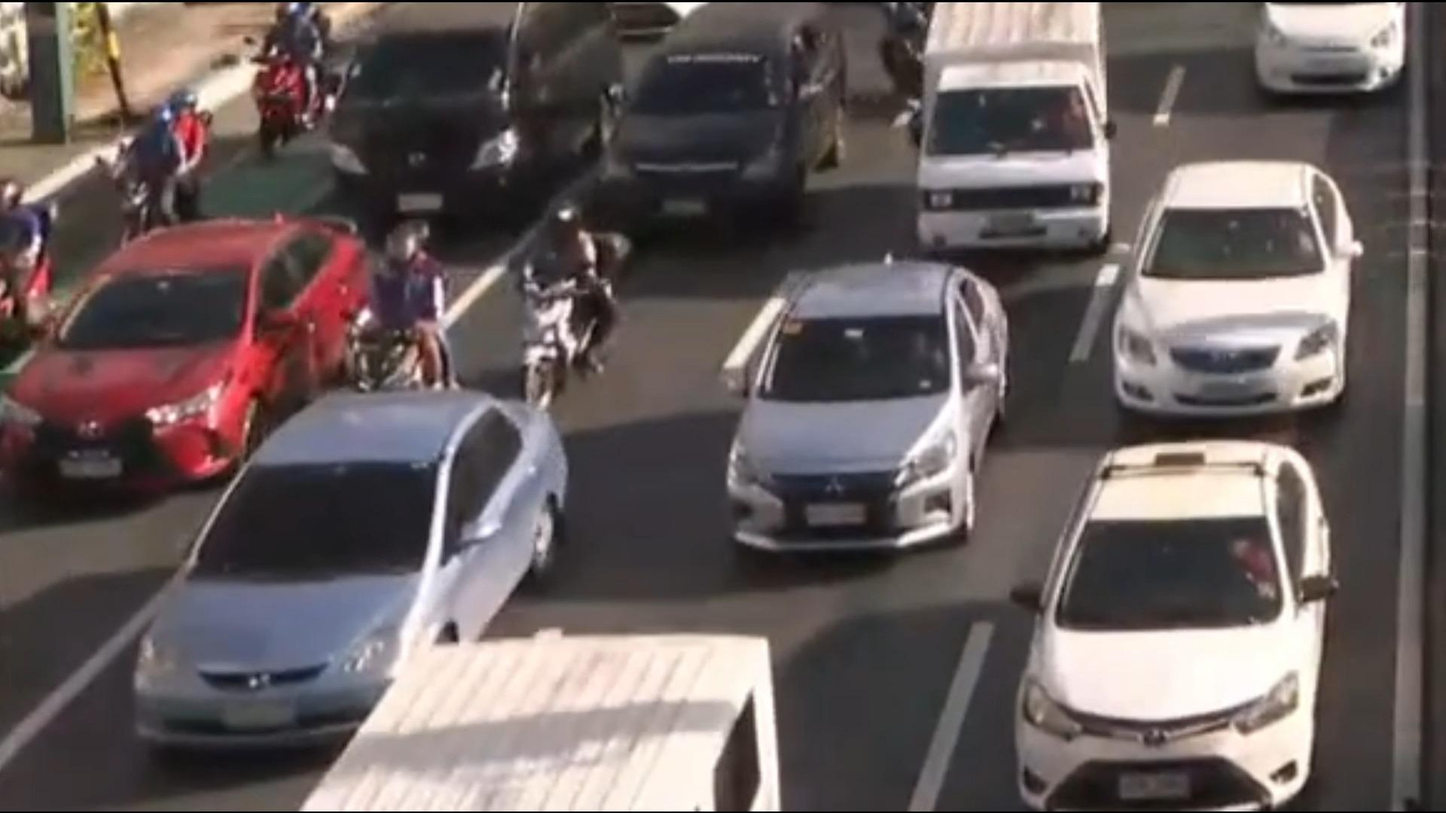Motorcycle: (480, 209, 646, 414), (349, 213, 454, 408), (123, 74, 228, 246), (0, 168, 72, 368), (233, 2, 329, 146)
Multicab: (266, 640, 808, 813), (888, 0, 1162, 264)
Sedan: (123, 386, 609, 746), (990, 426, 1388, 813), (0, 190, 386, 494), (707, 256, 1011, 591), (1099, 149, 1373, 452)
Van: (284, 0, 627, 229), (580, 0, 883, 249)
